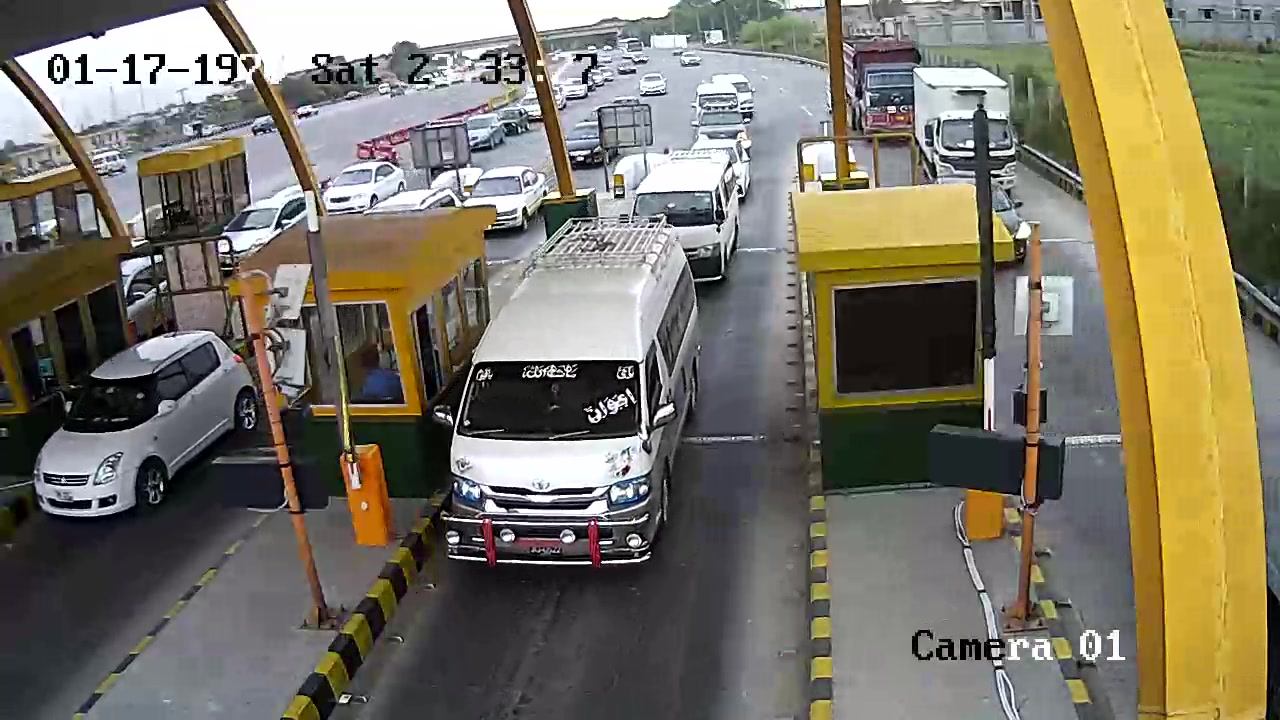F2: (443, 219, 703, 577)
